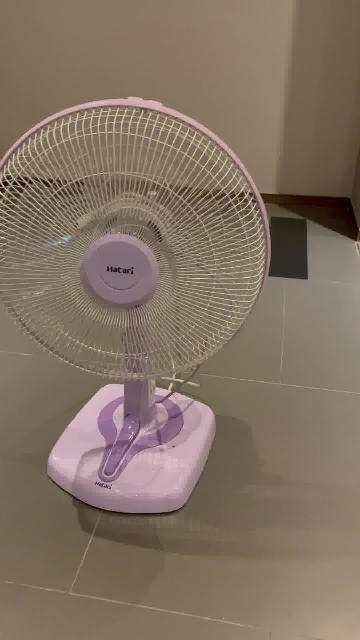Fan: (0, 97, 270, 516)
